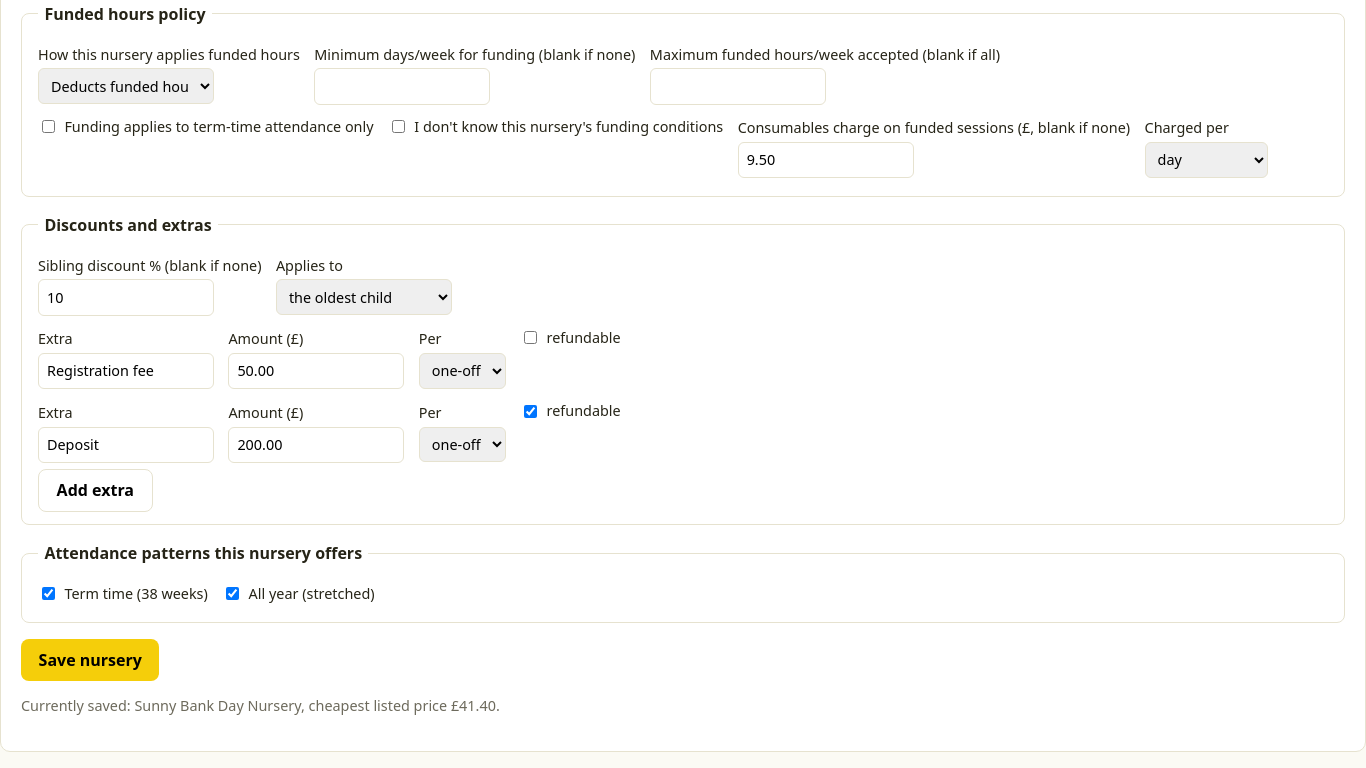
Test: NurseryForm › refuses a rename onto another saved nursery, but allows keeping your own name
The image size is (1366, 768).
(page scrolled)
// Keeping the current name is not a collision.
Click the button "Save nursery": (90, 660) [21,639,160,680]
(page scrolled)
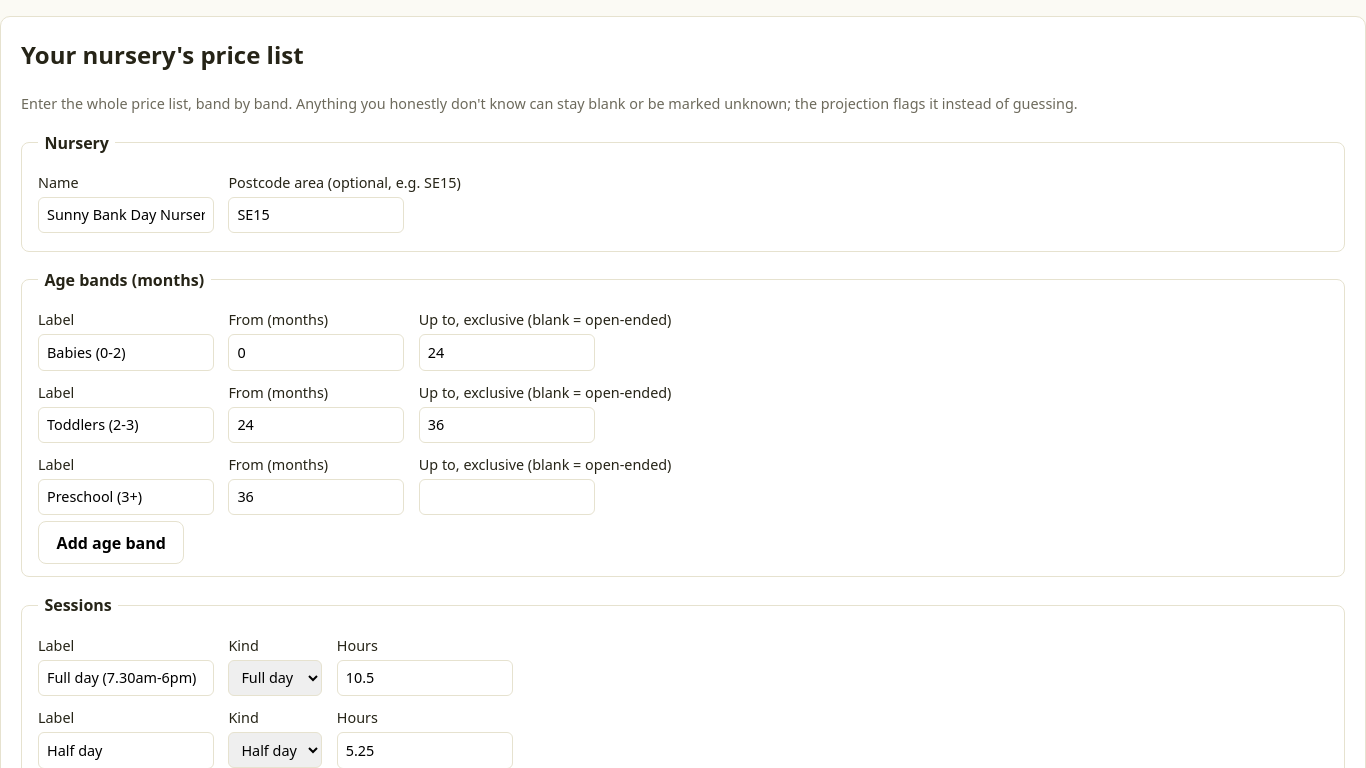
// Renaming onto the other saved nursery is.
Replace the text in the field labelled "Name" with "The Orchard Nursery School": (126, 215) [38,197,214,233]
(page scrolled)
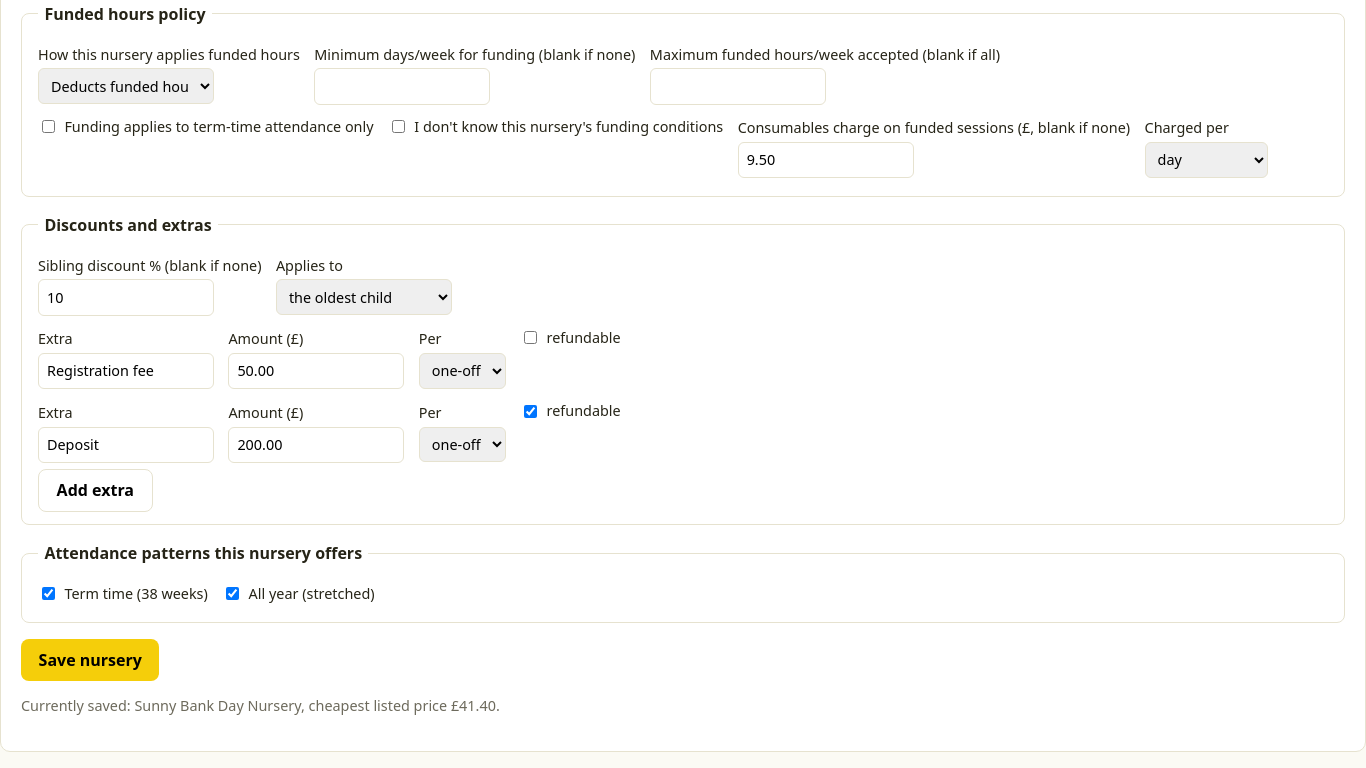
Click the button "Save nursery": (90, 660) [21,639,160,680]
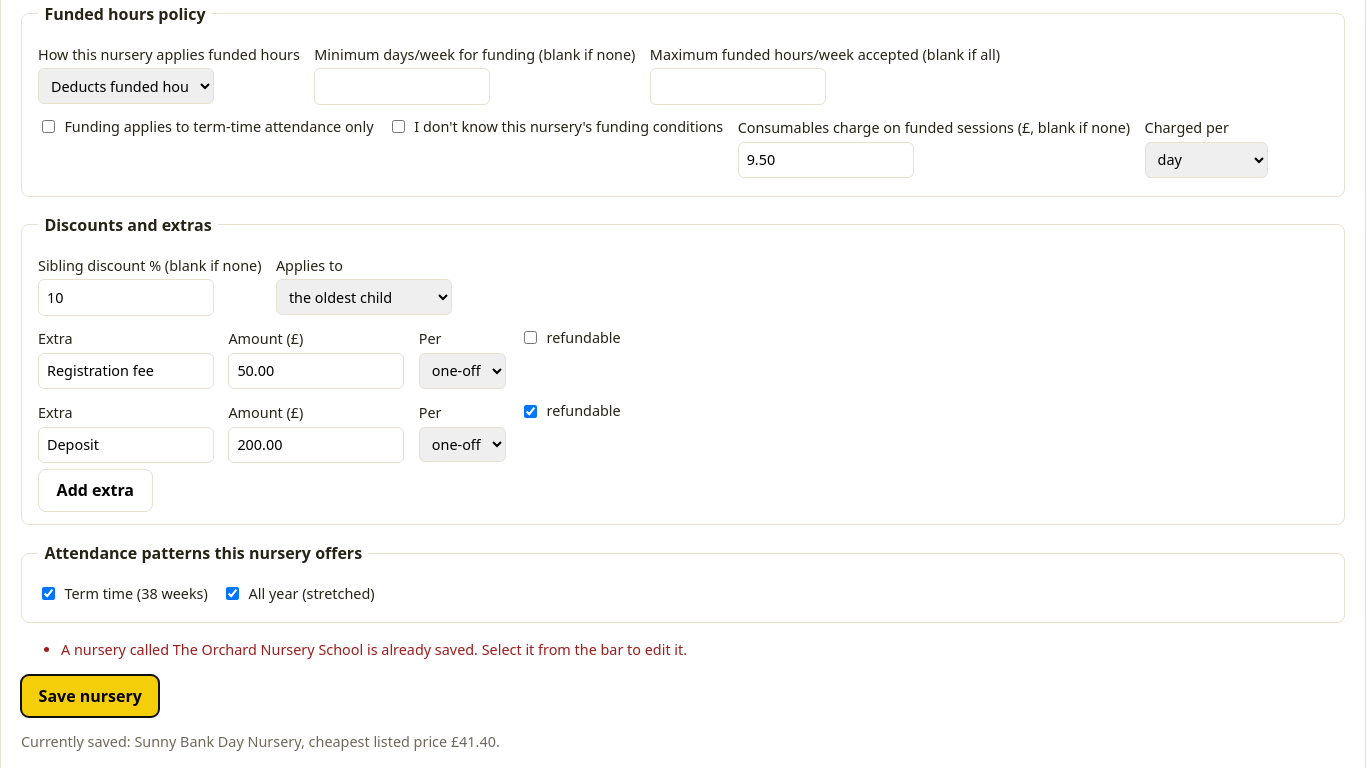
Result: the list item "A nursery called The Orchard Nursery School is already saved. Select it from the bar to edit it." is shown at [61,640,687,659]
